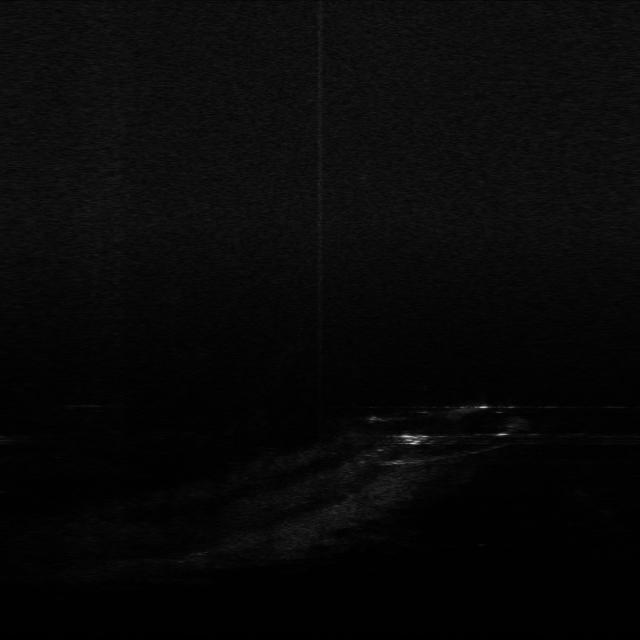rov: (396, 431, 433, 446)
